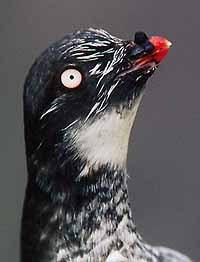006.Least_Auklet: (20, 25, 191, 262)
